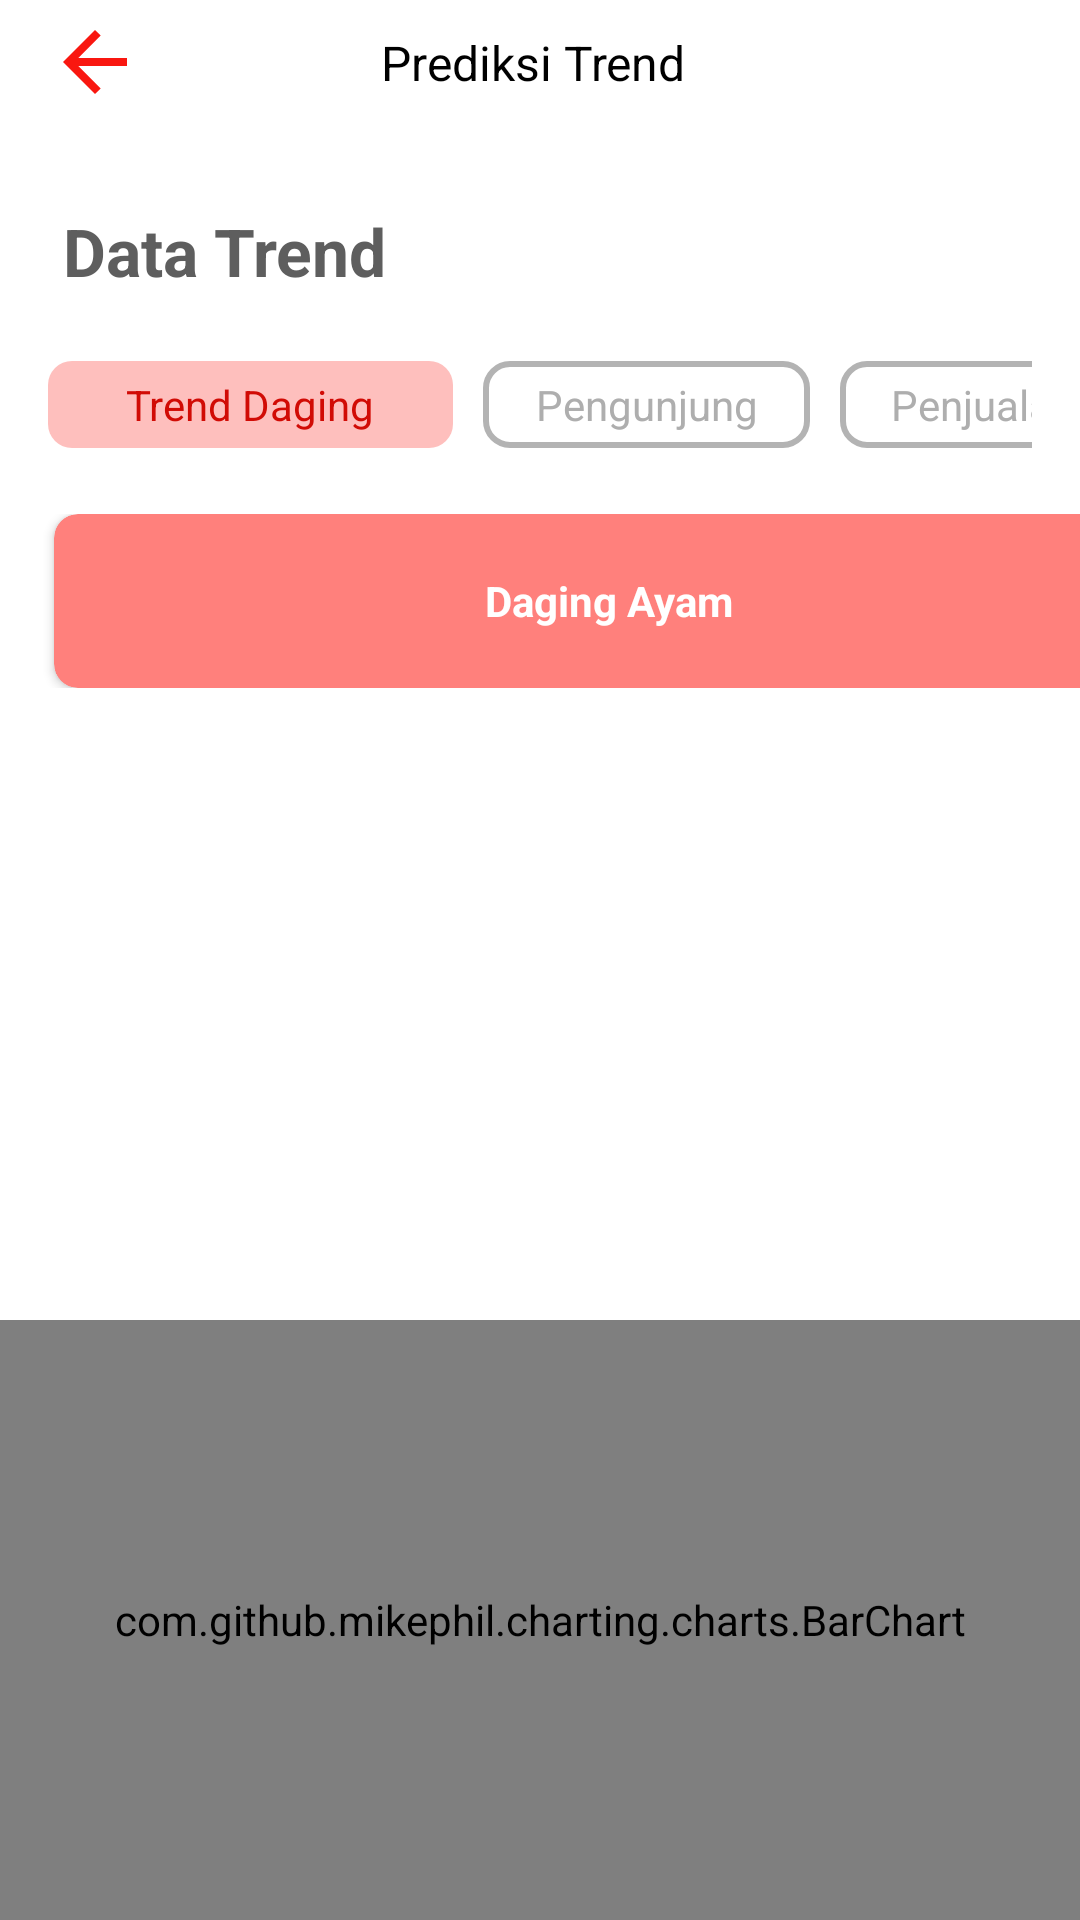

Named icons in this screenshot (1080w x 1920h) and their bounding boxes, (x1, y1, x2, y2):
arrow: (63, 30, 127, 94)
